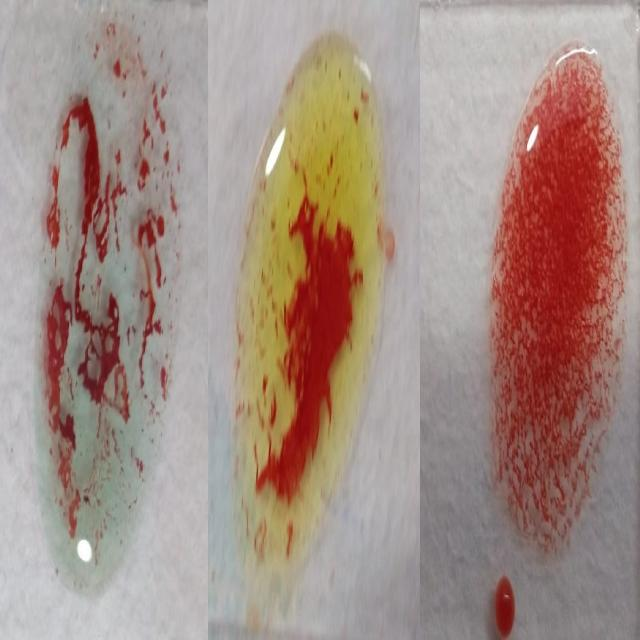A: (40, 9, 171, 587)
B: (233, 42, 378, 562)
D: (488, 33, 627, 557)
